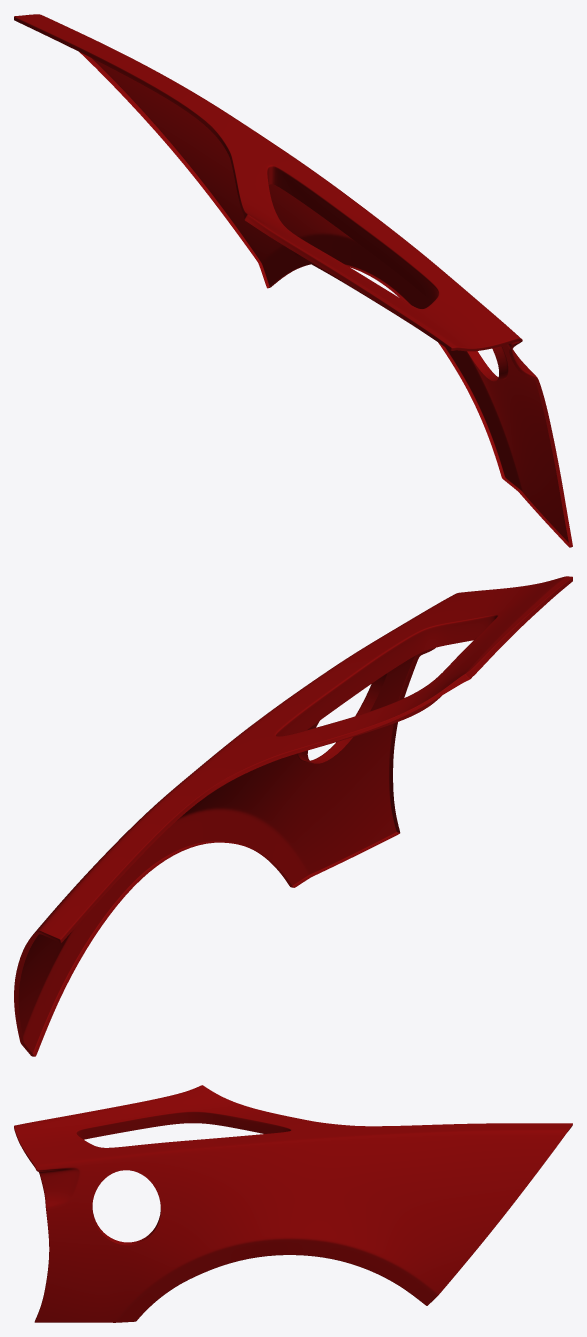
Rendered from c7reardrivpanel.glb.
3 views of the same model, one above another, from view 1: azimuth 30°, elevation 25°; view 2: azimuth 150°, elevation 25°; view 3: azimuth 270°, elevation 25° (orthographic). The views are drawn at different scales.
Parts seen in each view (by area): view 1: Back_Fender_Right_Crysal_Red_0; view 2: Back_Fender_Right_Crysal_Red_0; view 3: Back_Fender_Right_Crysal_Red_0.
Boxes of the visible parts, x1,y1,x2,y2 form: Back_Fender_Right_Crysal_Red_0: (14, 14, 572, 547); Back_Fender_Right_Crysal_Red_0: (14, 576, 572, 1056); Back_Fender_Right_Crysal_Red_0: (14, 1085, 572, 1322).
Size of the model in its own units: 0.3252 by 0.4146 by 1.18.
